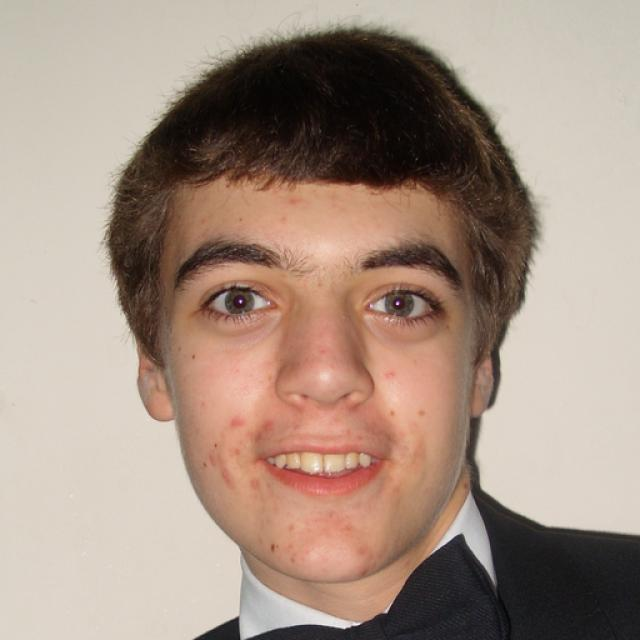Acne: (257, 416, 279, 432), (380, 367, 401, 383)
